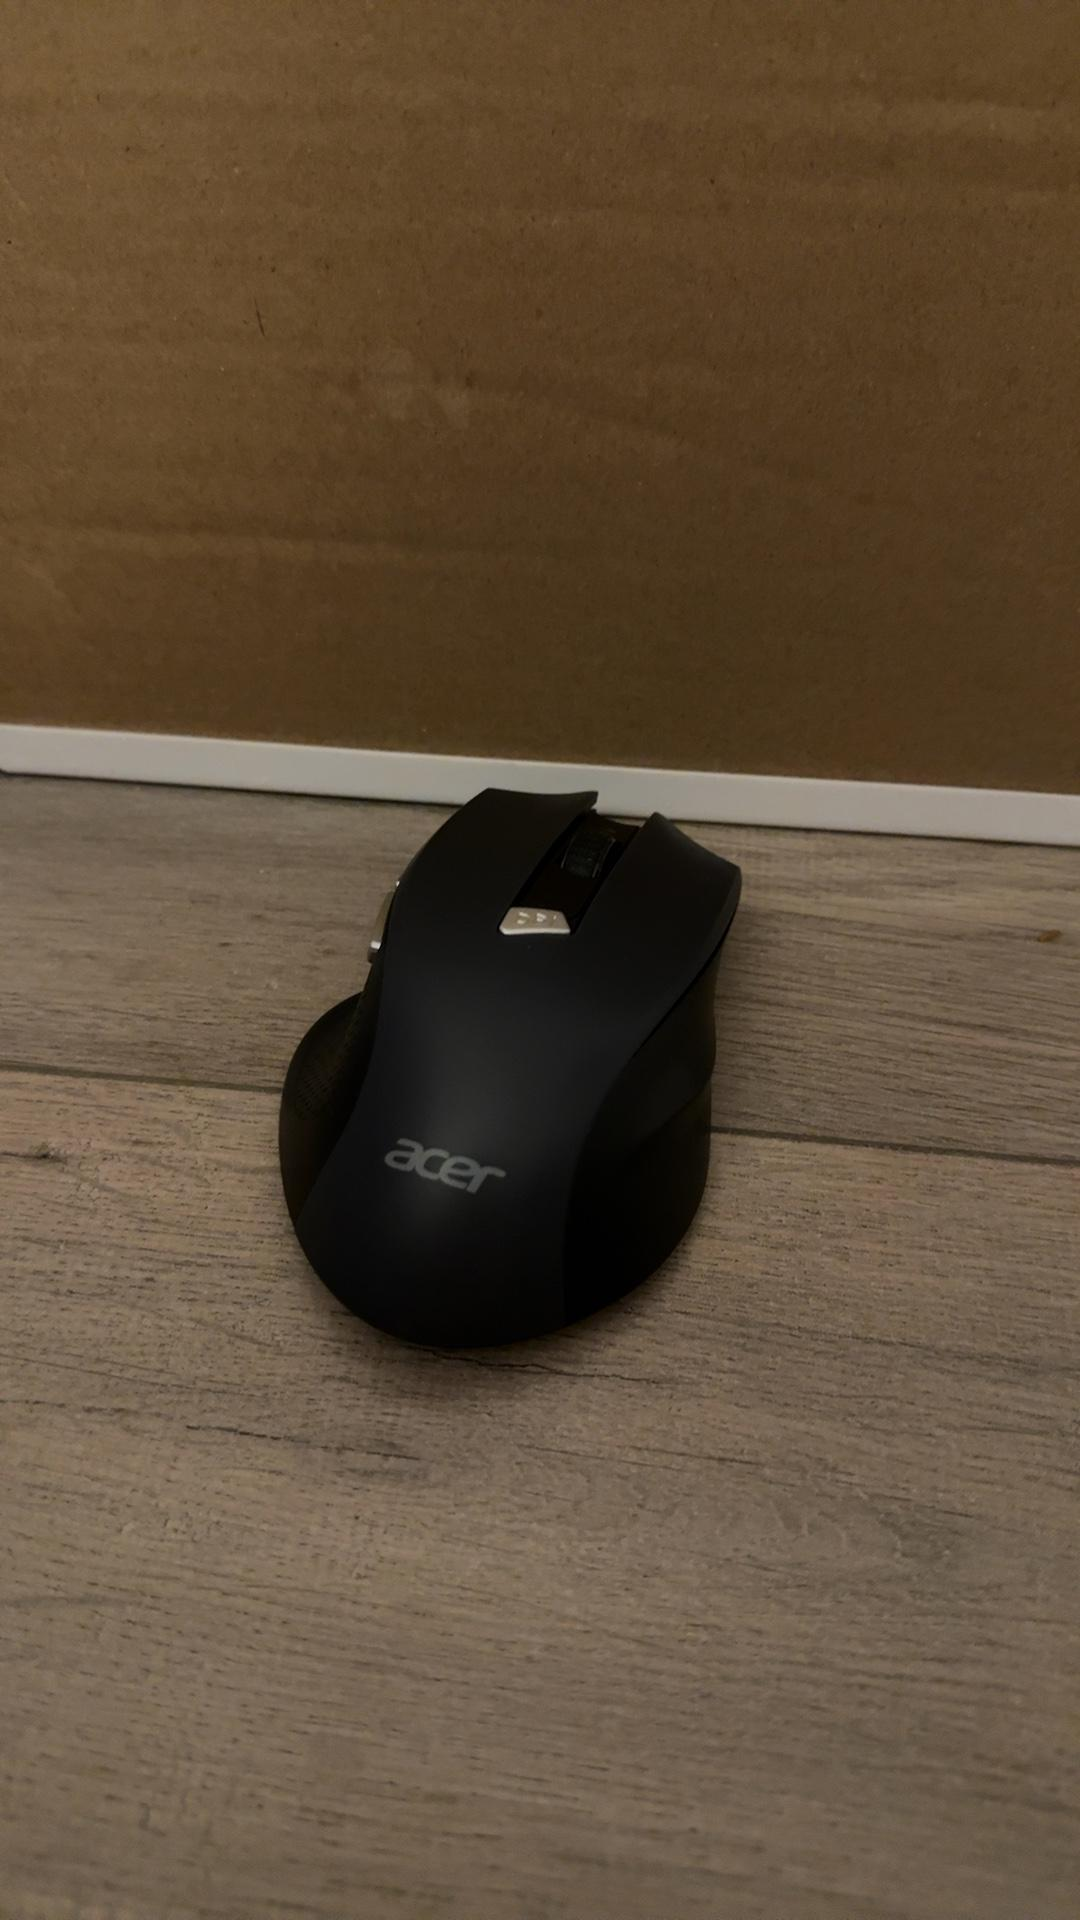Mouse: (293, 760, 790, 1365)
